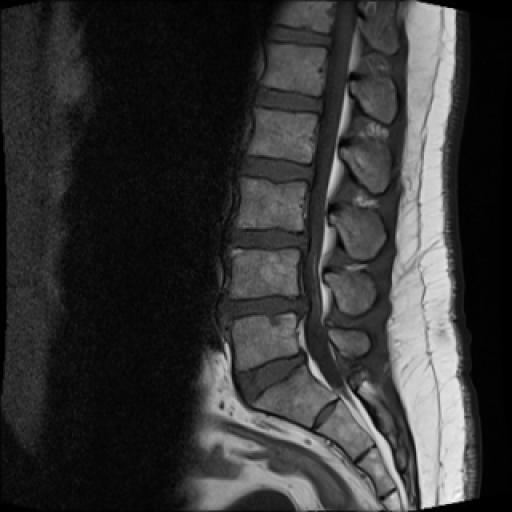L1: (261, 43, 326, 96)
L2: (248, 108, 317, 164)
L3: (238, 180, 306, 230)
L4: (231, 249, 299, 298)
L5: (234, 313, 298, 370)
S1: (253, 365, 337, 428)
